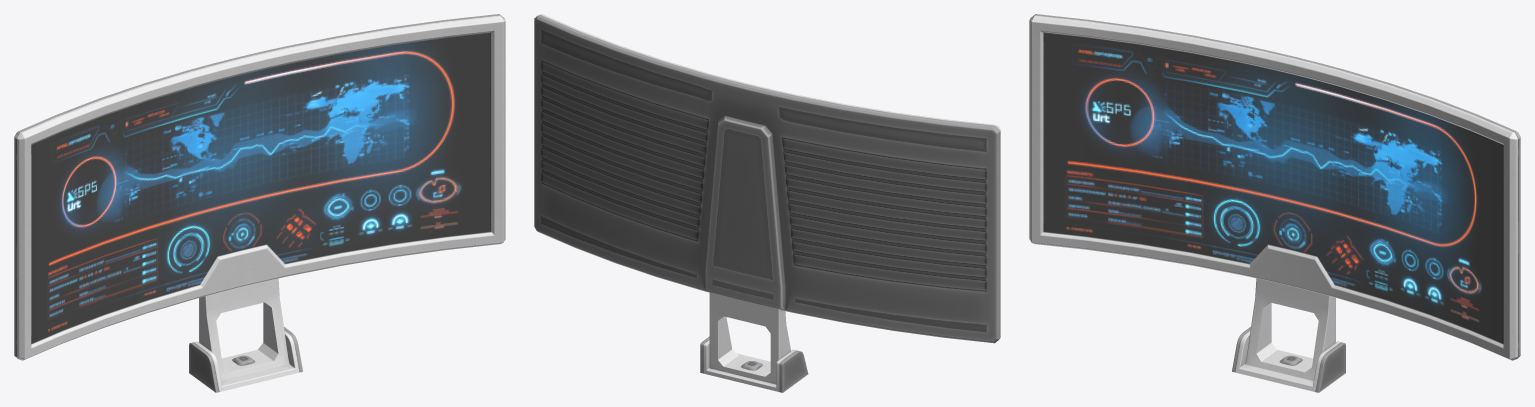
Rendered from Display05_2.FBX.
3 views of the same model, side by side, from view 1: azimuth 30°, elevation 25°; view 2: azimuth 150°, elevation 25°; view 3: azimuth 330°, elevation 25° (orthographic). The views are drawn at different scales.
Parts seen in each view (by area): view 1: Display05_2; view 2: Display05_2; view 3: Display05_2.
Boxes of the visible parts, bbox=[...] form: Display05_2: bbox=[14, 14, 505, 392]; Display05_2: bbox=[534, 14, 1000, 392]; Display05_2: bbox=[1029, 14, 1520, 392].
Size of what is drawn, in the model's own units: 1.16 by 0.6984 by 0.1297.
